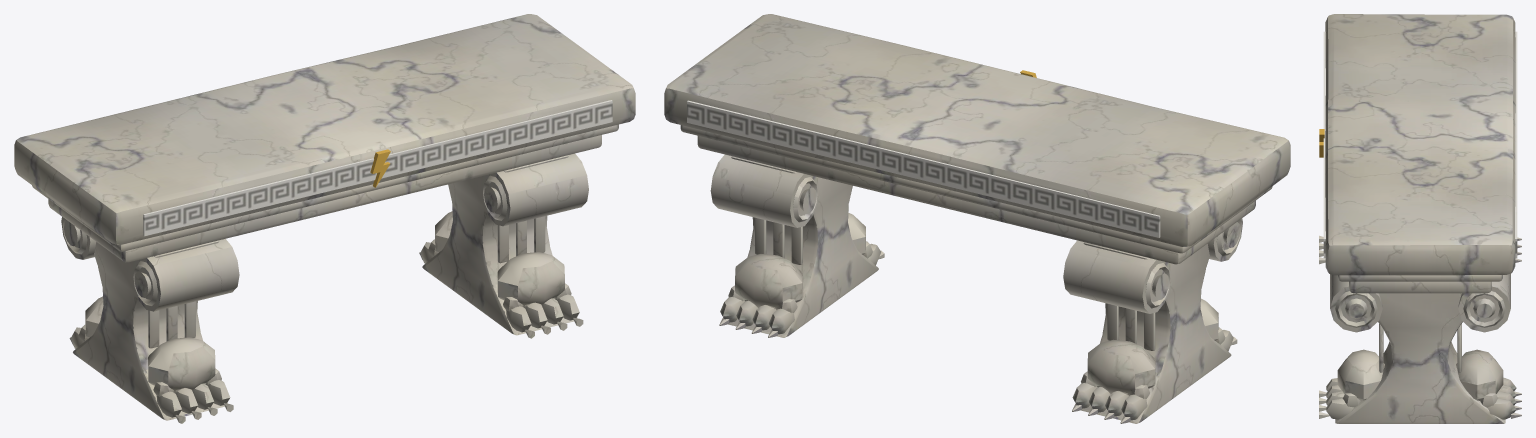
File: decor_bench_t1_marble.blender.glb
The picture shows the model from 3 angles, left to right: view 1: azimuth 30°, elevation 25°; view 2: azimuth 150°, elevation 25°; view 3: azimuth 270°, elevation 25°; orthographic projection. The views are drawn at different scales.
Visible parts, largest first — view 1: marble, meander; view 2: marble, meander; view 3: marble, meander.
Boxes of the visible parts, x1=… form: marble: x1=14, y1=14, x2=635, y2=423; meander: x1=143, y1=100, x2=612, y2=236; marble: x1=664, y1=14, x2=1290, y2=423; meander: x1=687, y1=100, x2=1160, y2=237; marble: x1=1319, y1=14, x2=1521, y2=423; meander: x1=1323, y1=31, x2=1517, y2=258.
Bounding box in the file's own units: 1.5 × 0.622 × 0.554.
Materials: 3 (2 with a texture image).
